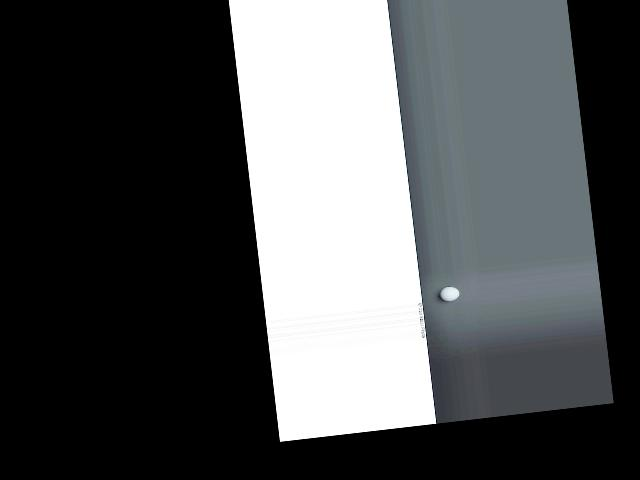egg: (439, 285, 460, 302)
